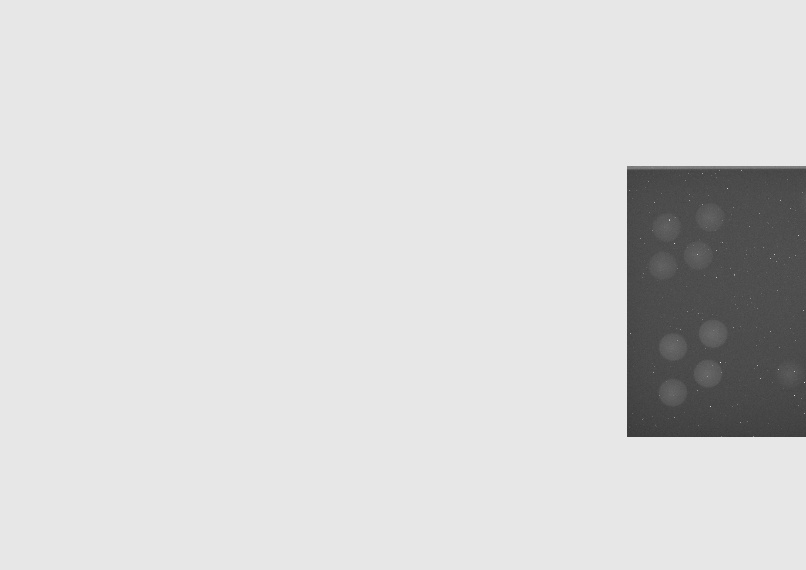bubble: (775, 359, 804, 385)
cluster: (647, 202, 727, 279), (658, 319, 729, 405)
